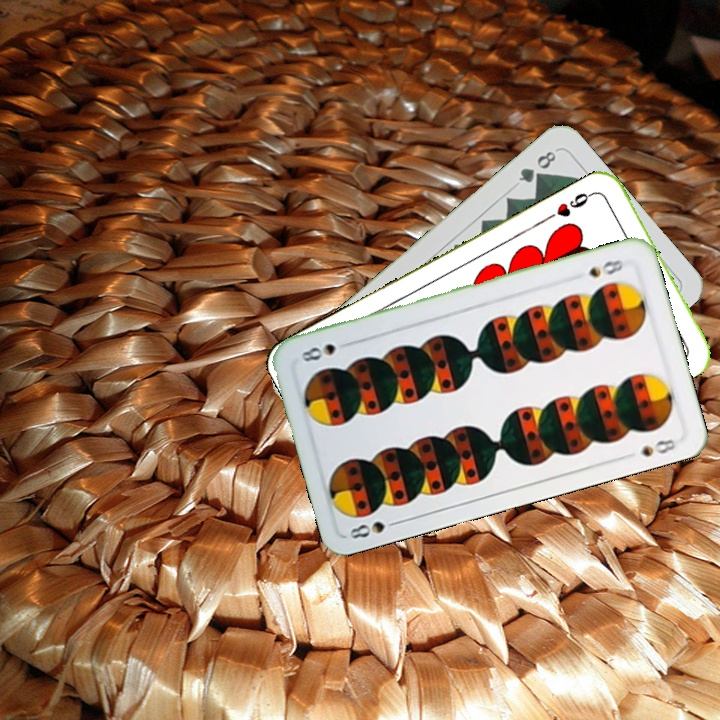G8: (514, 146, 559, 186)
H9: (552, 187, 598, 220)
S8: (345, 516, 404, 544), (583, 254, 632, 280)
